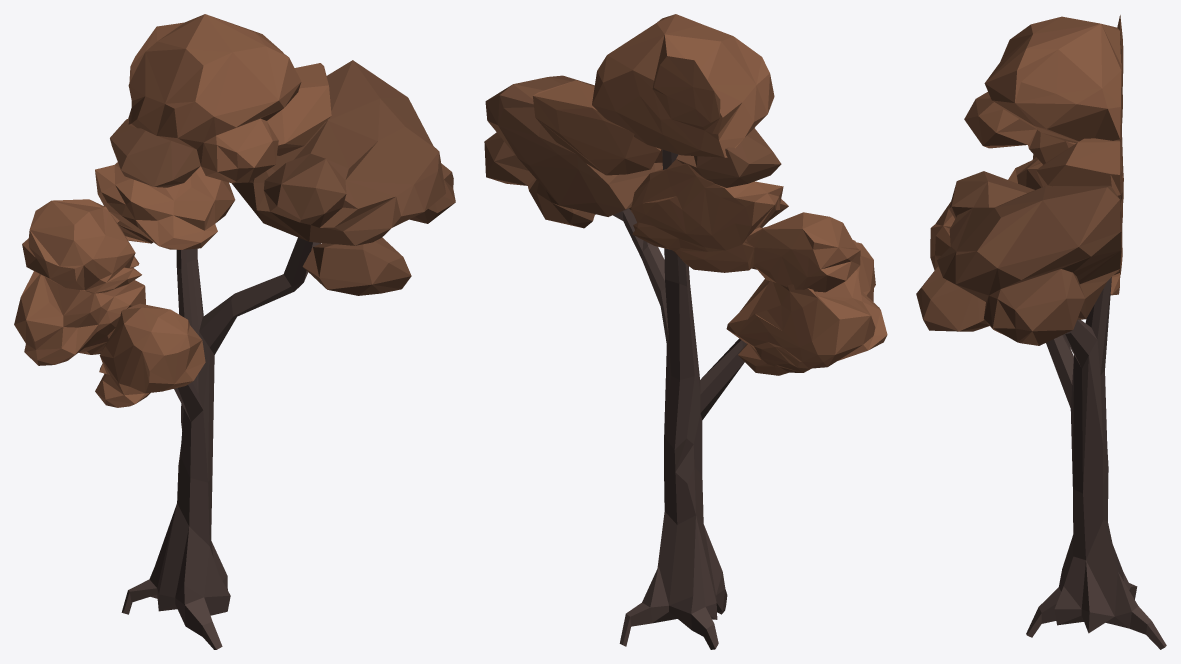
Rendered from SM_Env_Tree_Facade_03.fbx.
3 renders of one model, left to right at view 1: azimuth 30°, elevation 25°; view 2: azimuth 150°, elevation 25°; view 3: azimuth 270°, elevation 25°, orthographic. The views are drawn at different scales.
Visible parts, largest first — view 1: SM_Env_Tree_Facade_03; view 2: SM_Env_Tree_Facade_03; view 3: SM_Env_Tree_Facade_03.
Boxes of the visible parts, box(x1,y1,x2,y2) form: SM_Env_Tree_Facade_03: box(14, 14, 455, 649); SM_Env_Tree_Facade_03: box(484, 14, 887, 649); SM_Env_Tree_Facade_03: box(916, 15, 1166, 649).
Size of the model in its own units: 1000 by 1405 by 511.
Materials: 1 (1 with a texture image).
